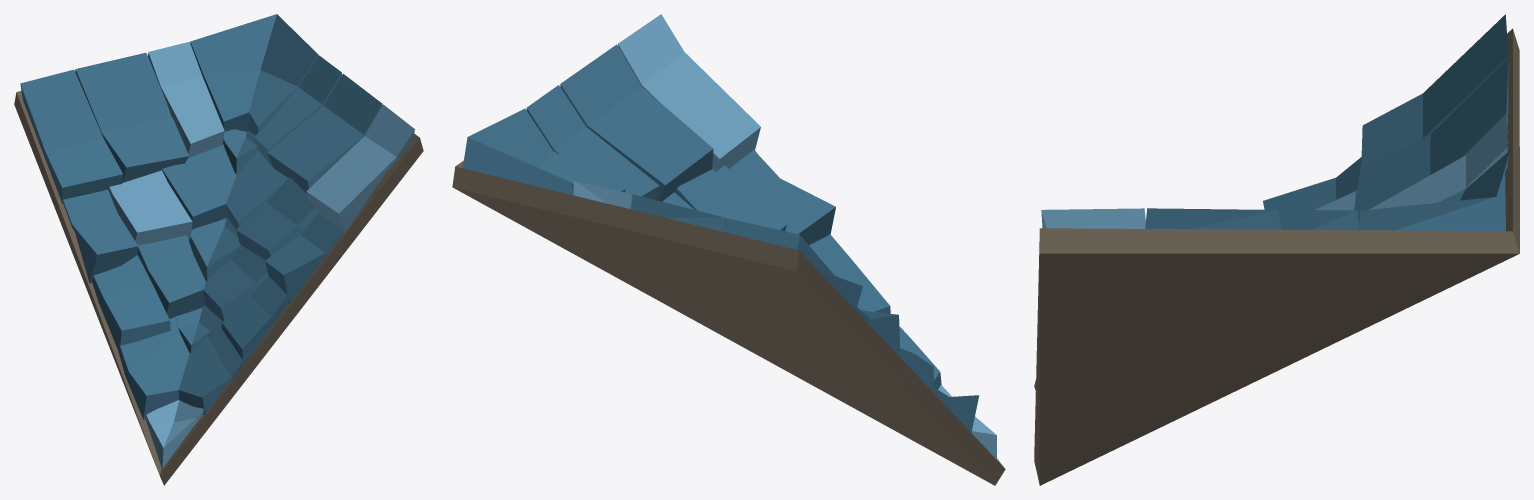
Rendered from ROOF_inner_corner_1.glb.
3 views of the same model, side by side, from view 1: azimuth 30°, elevation 25°; view 2: azimuth 150°, elevation 25°; view 3: azimuth 270°, elevation 25° (orthographic). The views are drawn at different scales.
Visible parts, largest first — view 1: ROOF_inner_corner_1; view 2: ROOF_inner_corner_1; view 3: ROOF_inner_corner_1.
Boxes of the visible parts, left/top/right/bottom form: ROOF_inner_corner_1: left=14, top=14, right=423, bottom=485; ROOF_inner_corner_1: left=452, top=14, right=1005, bottom=485; ROOF_inner_corner_1: left=1034, top=14, right=1519, bottom=485.
Size of the model in its own units: 1.02 by 1.12 by 1.01.
Materials: 1 (1 with a texture image).
